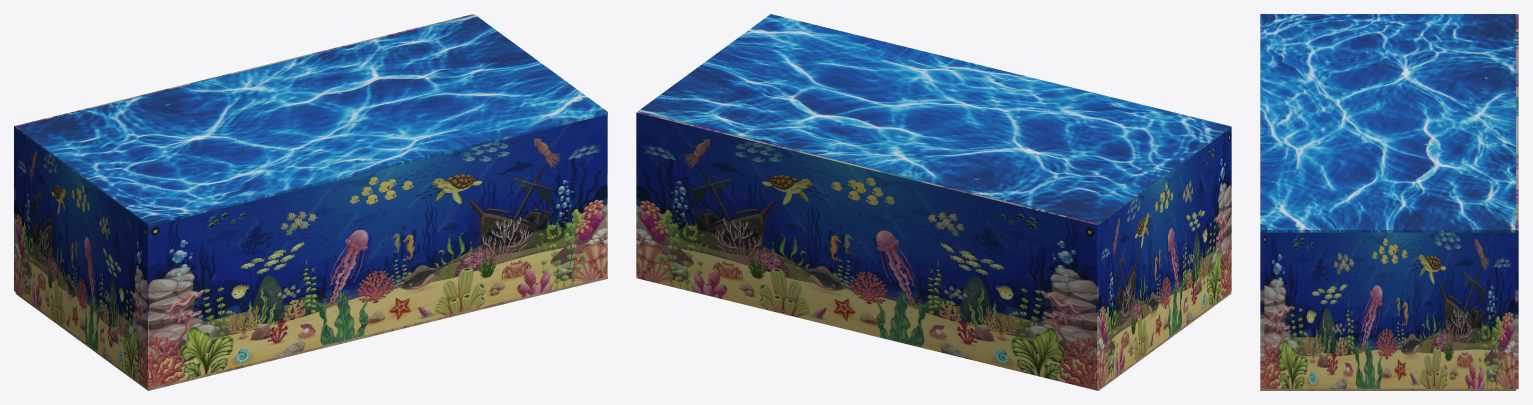
Rendered from Pecera.obj.
3 views of the same model, side by side, from view 1: azimuth 30°, elevation 25°; view 2: azimuth 150°, elevation 25°; view 3: azimuth 270°, elevation 25° (orthographic). The views are drawn at different scales.
Parts seen in each view (by area): view 1: Pecera_PeceraL2, Pecera_SuperficiePecera, Pecera_FondoPecera, Pecera_PeceraL1; view 2: Pecera_PeceraL1, Pecera_SuperficiePecera, Pecera_PeceraL2, Pecera_FondoPecera; view 3: Pecera_SuperficiePecera, Pecera_PeceraL1, Pecera_PeceraL2, Pecera_FondoPecera.
Part boxes in pixels (x1=…): Pecera_PeceraL2: x1=15, y1=114, x2=606, y2=388; Pecera_SuperficiePecera: x1=16, y1=15, x2=607, y2=226; Pecera_FondoPecera: x1=15, y1=276, x2=607, y2=390; Pecera_PeceraL1: x1=14, y1=14, x2=607, y2=291; Pecera_PeceraL1: x1=636, y1=111, x2=1098, y2=390; Pecera_SuperficiePecera: x1=638, y1=14, x2=1231, y2=223; Pecera_PeceraL2: x1=1098, y1=127, x2=1231, y2=388; Pecera_FondoPecera: x1=638, y1=278, x2=1231, y2=390; Pecera_SuperficiePecera: x1=1260, y1=14, x2=1515, y2=232; Pecera_PeceraL1: x1=1264, y1=14, x2=1518, y2=389; Pecera_PeceraL2: x1=1260, y1=230, x2=1264, y2=389; Pecera_FondoPecera: x1=1260, y1=388, x2=1515, y2=390.
Bounding box in the file's own units: 15.97 × 5.54 × 8.07.
